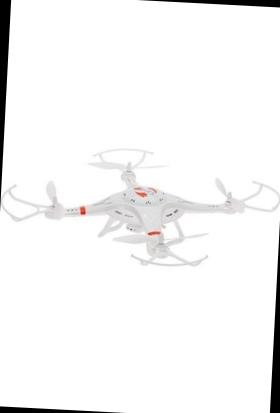drone: (0, 149, 276, 283)
